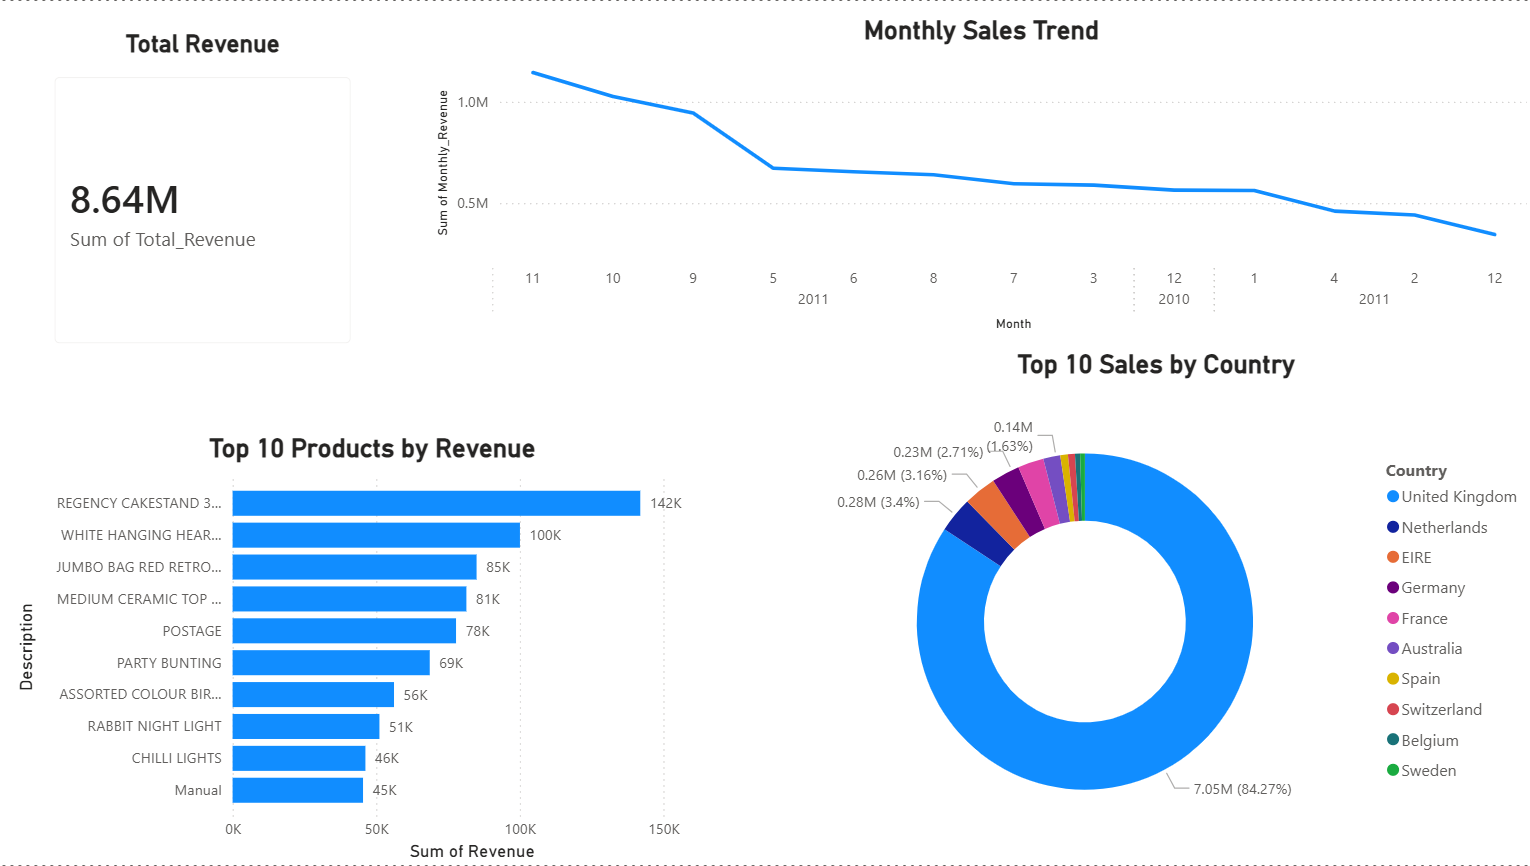

The dashboard page shown, as its layout file describes it:
{"tool":"powerbi","page":{"name":"Sales overview","canvas":[1280,720],"ordinal":0},"visuals":[{"type":"cardVisual","title":"Total Revenue","fields":{"Data":["Sum(vw_TotalRevenue.Total_Revenue)"]},"box":[29.5,23.3,281.5,279.9],"z":0},{"type":"donutChart","title":"Top 10 Sales by Country","fields":{"Category":["vw_SalesByCountry.Country"],"Y":["Sum(vw_SalesByCountry.Revenue)"]},"box":[649.5,289.7,630.5,429.8],"z":1000},{"type":"clusteredBarChart","title":"Top 10 Products by Revenue","fields":{"Category":["vw_TopProducts.Description"],"Y":["Sum(vw_TopProducts.Revenue)"]},"box":[9.5,359.8,604,361.7],"z":2000},{"type":"lineChart","title":"Monthly Sales Trend","fields":{"Category":["vw_MonthlySales.Year","vw_MonthlySales.Month"],"Y":["Sum(vw_MonthlySales.Monthly_Revenue)"]},"box":[360.8,12.4,919,267.5],"z":3000}]}

Visuals, with their boxes in screenshot pixels (x1, y1, x2, y2), scaled from the page's 1280x720 canvas onto the 1530x866 screenshot:
"Total Revenue" cardVisual: x1=35 y1=28 x2=372 y2=365
"Top 10 Sales by Country" donutChart: x1=776 y1=348 x2=1529 y2=865
"Top 10 Products by Revenue" clusteredBarChart: x1=11 y1=433 x2=733 y2=865
"Monthly Sales Trend" lineChart: x1=431 y1=15 x2=1529 y2=337
